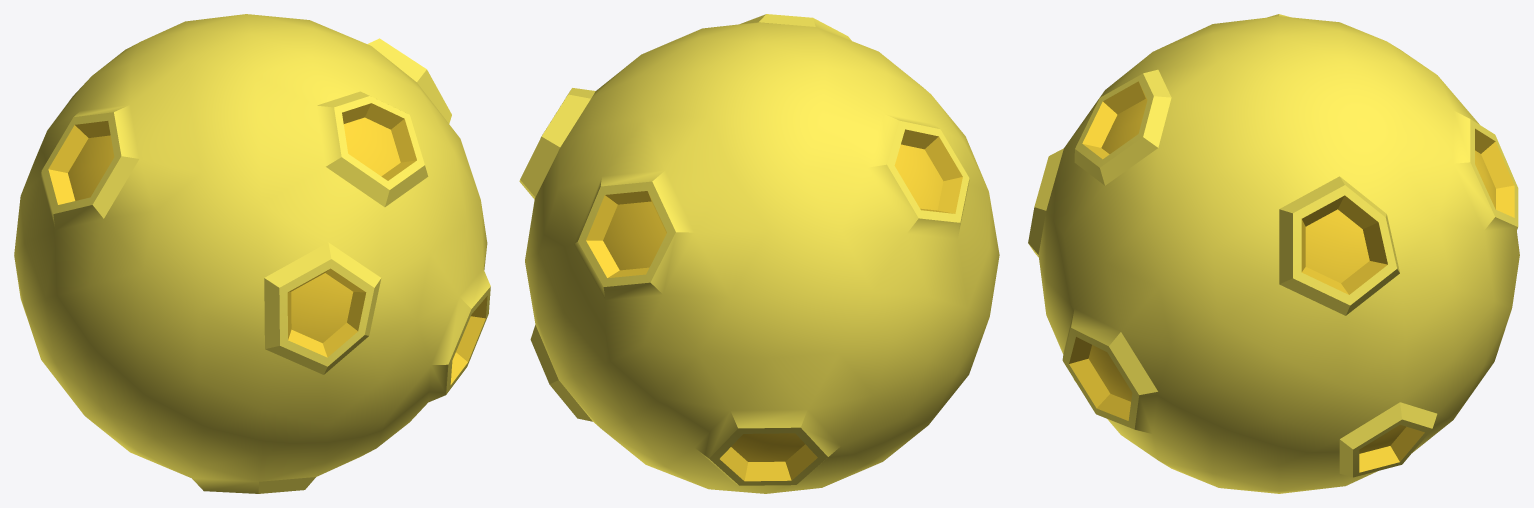
File: full_moon.glb
3 renders of one model, left to right at view 1: azimuth 30°, elevation 25°; view 2: azimuth 150°, elevation 25°; view 3: azimuth 270°, elevation 25°, orthographic.
Visible parts, largest first — view 1: Icosphere.004; view 2: Icosphere.004; view 3: Icosphere.004.
Boxes of the visible parts, left/top/right/bottom form: Icosphere.004: left=14, top=14, right=490, bottom=493; Icosphere.004: left=519, top=14, right=999, bottom=493; Icosphere.004: left=1028, top=14, right=1519, bottom=493.
Size of the model in its own units: 2.01 by 2.04 by 2.04.
1 material, 1 textured.
